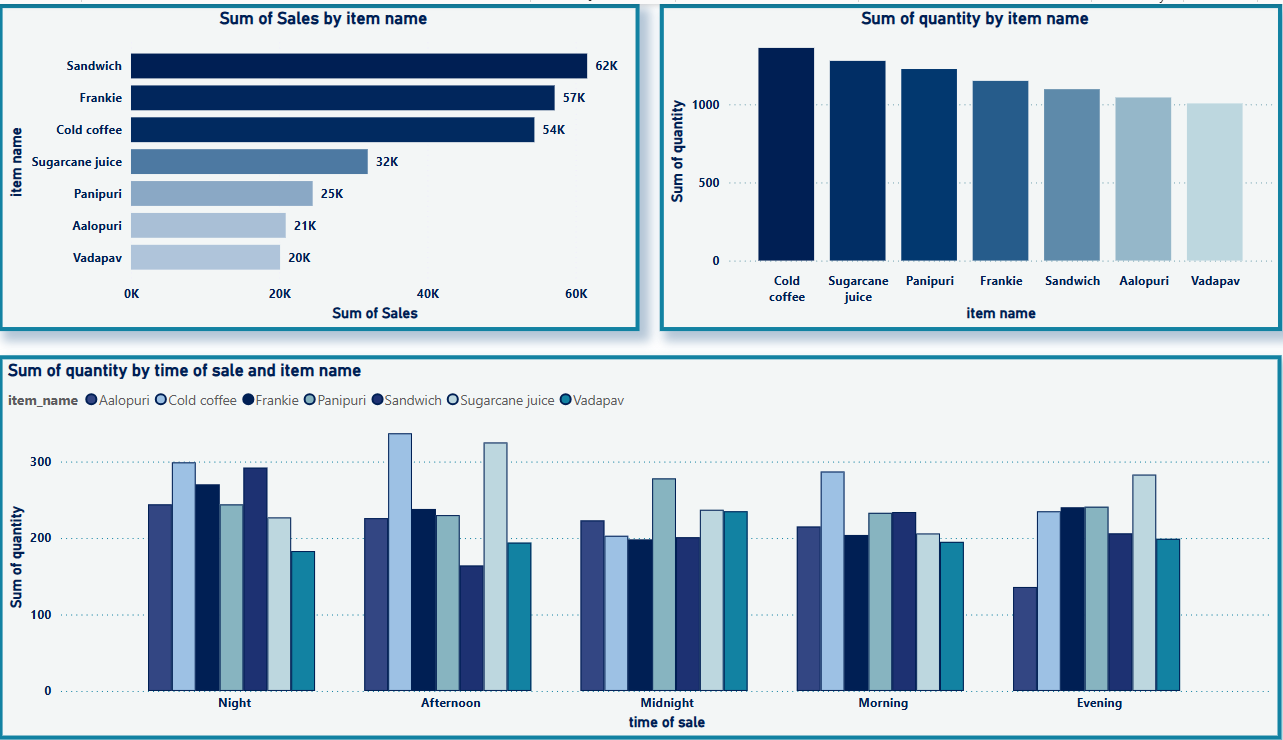

What the dashboard file says about the page in this screenshot:
{"tool":"powerbi","page":{"name":"Page 2","canvas":[1280,720],"ordinal":1},"visuals":[{"type":"clusteredBarChart","fields":{"Category":["Restaurant sales.item_name"],"Y":["Sum(Restaurant sales.Sales)"]},"box":[12.5,0,627.5,320],"z":0},{"type":"clusteredColumnChart","title":"Sum of quantity by item name","fields":{"Category":["Restaurant sales.item_name"],"Y":["Sum(Restaurant sales.quantity)"]},"box":[658.8,0,608.8,320],"z":1000},{"type":"clusteredColumnChart","title":"Sum of quantity by time of sale and item name","fields":{"Category":["Restaurant sales.time_of_sale"],"Y":["Sum(Restaurant sales.quantity)"],"Series":["Restaurant sales.item_name"]},"box":[12.5,343.8,1255,376.2],"z":2000}]}

Visuals, with their boxes in screenshot pixels (x1, y1, x2, y2), scaled from the page's 1280x720 canvas onto the 1283x740 screenshot:
clusteredBarChart - Restaurant sales.item_name x Sum(Restaurant sales.Sales): {"left": 13, "top": 0, "right": 642, "bottom": 329}
"Sum of quantity by item name" clusteredColumnChart: {"left": 660, "top": 0, "right": 1271, "bottom": 329}
"Sum of quantity by time of sale and item name" clusteredColumnChart: {"left": 13, "top": 353, "right": 1270, "bottom": 739}
